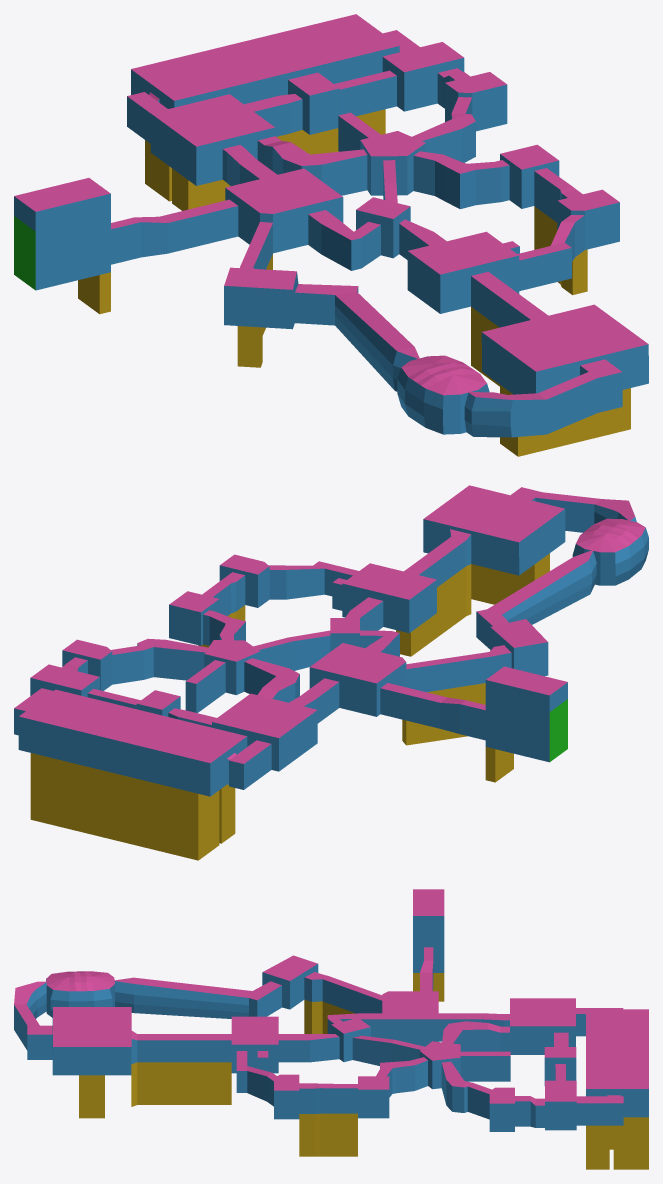
Rendered from final_edit_4.fbx.
3 renders of one model, top to bottom at view 1: azimuth 30°, elevation 25°; view 2: azimuth 150°, elevation 25°; view 3: azimuth 270°, elevation 25°, orthographic. The views are drawn at different scales.
Parts seen in each view (by area): view 1: tele_fake_red_room; view 2: tele_fake_red_room; view 3: tele_fake_red_room.
Part boxes in pixels (x1,y1,x2,y2): tele_fake_red_room: (14,14,648,456); tele_fake_red_room: (14,485,648,860); tele_fake_red_room: (14,889,648,1169).
Bounding box in the file's own units: 13959 × 4000 × 20190.
